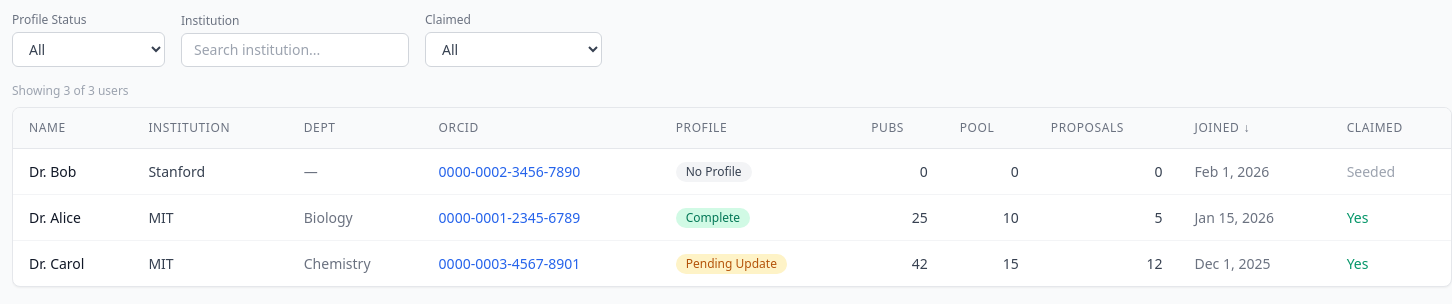
it: UsersTable › filters by profile status
The width and height of the screenshot is (1452, 304).
Select "Complete" in the dropdown labelled "Profile Status" at (88, 50), box [12,32,165,67]
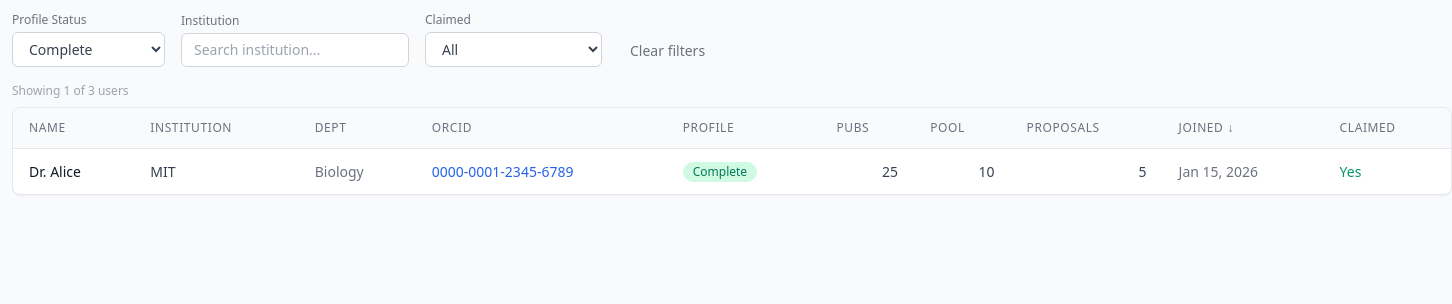
Expected: the text "Dr. Bob" is gone
Expected: the text "Dr. Carol" is gone
Expected: the text "Showing 1 of 3 users" is shown, [12,82,129,99]
